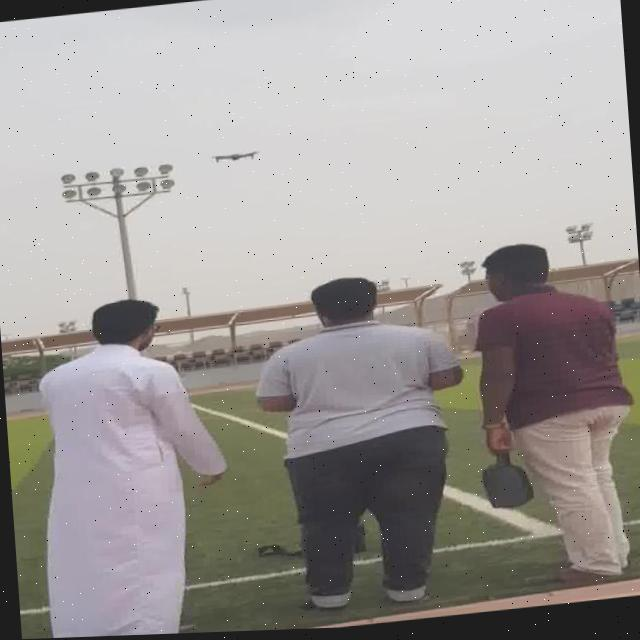drone: (198, 142, 270, 169)
